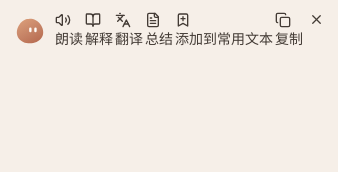
Test: copy keeps its label and closes after feedback, while failures stay open
The image size is (338, 172).
Step 1. Click the button "复制" → click(289, 30), box [275,12,303,49]
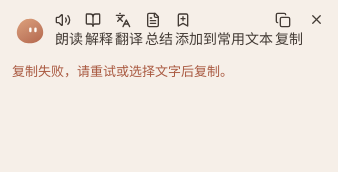
Expected: the text "复制失败，请重试或选择文字后复制。" is shown, [12,62,233,80]
Step 2. Click the button "复制" → click(289, 30), box [275,12,303,49]
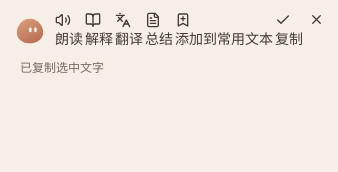
Expected: the text "已复制选中文字" is shown, [20,59,104,76]
